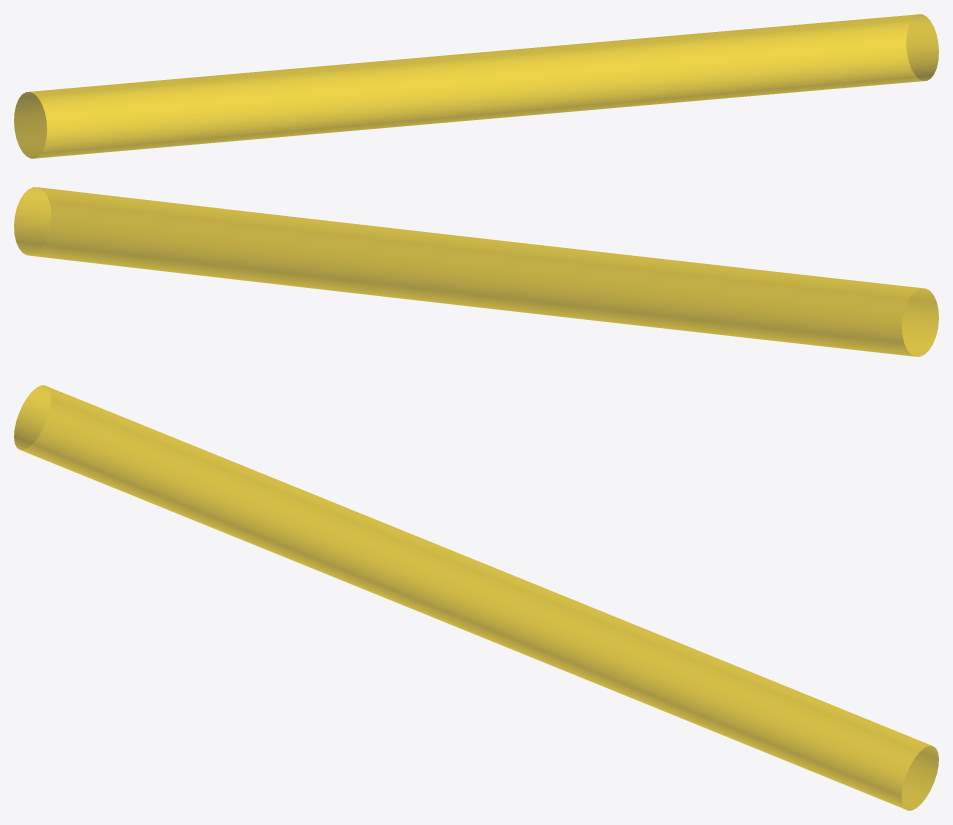
The model's file is Event_17758602_track_83.fbx.
3 views of the same model, one above another, from view 1: azimuth 30°, elevation 25°; view 2: azimuth 150°, elevation 25°; view 3: azimuth 330°, elevation 25° (orthographic). The views are drawn at different scales.
Visible parts, largest first — view 1: Model; view 2: Model; view 3: Model.
Part boxes in pixels (x1,y1,x2,y2): Model: (14,14,938,158); Model: (14,187,938,356); Model: (14,385,938,810).
Bounding box in the file's own units: 0.6076 × 0.1223 × 0.0569.
